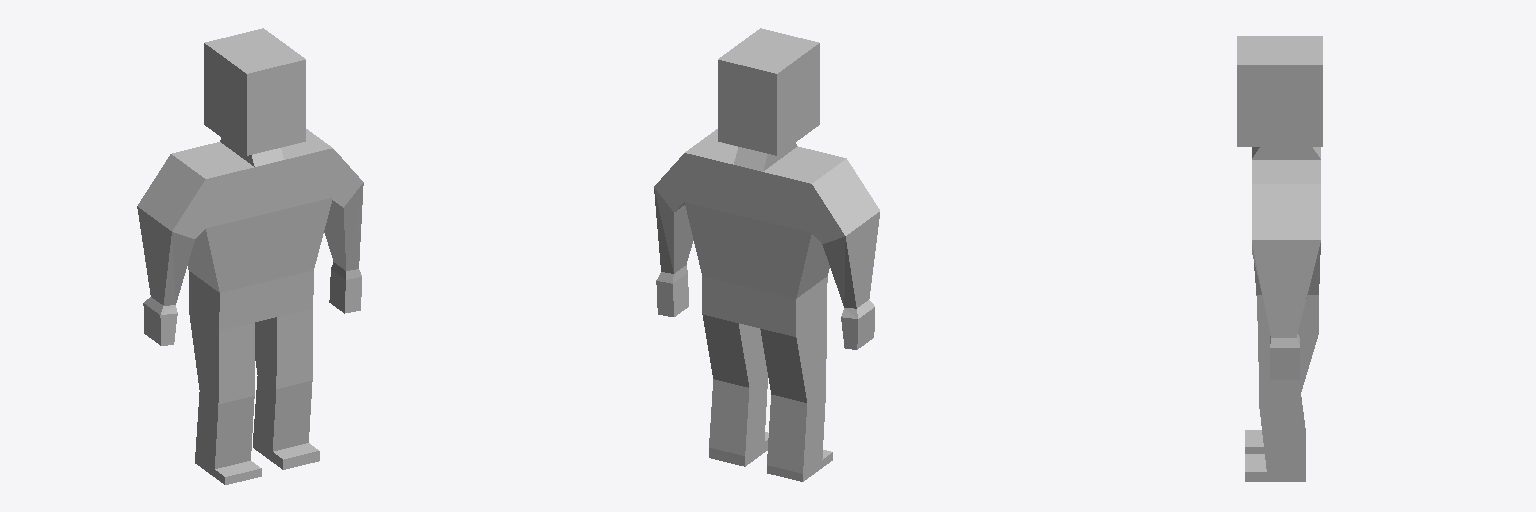
Rendered from zombie.obj.
3 renders of one model, left to right at view 1: azimuth 30°, elevation 25°; view 2: azimuth 150°, elevation 25°; view 3: azimuth 270°, elevation 25°, orthographic.
Visible parts, largest first — view 1: Cube; view 2: Cube; view 3: Cube.
Part boxes in pixels (left/top/right/bottom): Cube: left=137, top=28, right=363, bottom=484; Cube: left=654, top=28, right=879, bottom=481; Cube: left=1237, top=36, right=1322, bottom=481.
Bounding box in the file's own units: 0.8529 × 1.65 × 0.3107.